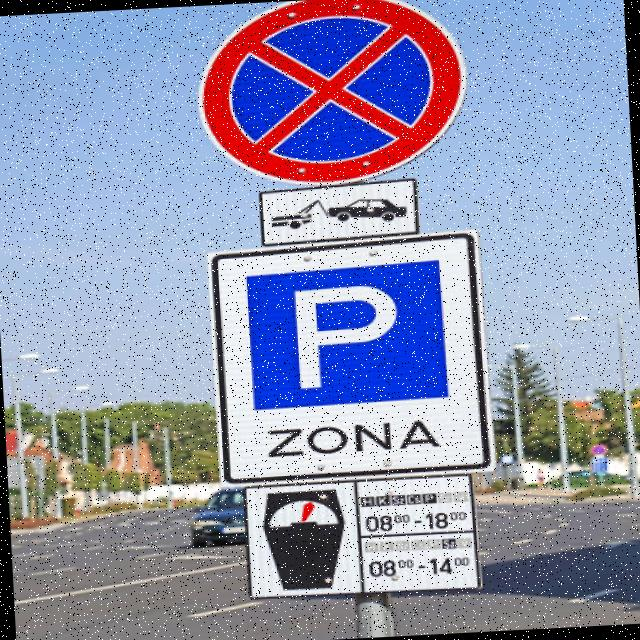no_parking: (161, 0, 505, 190)
